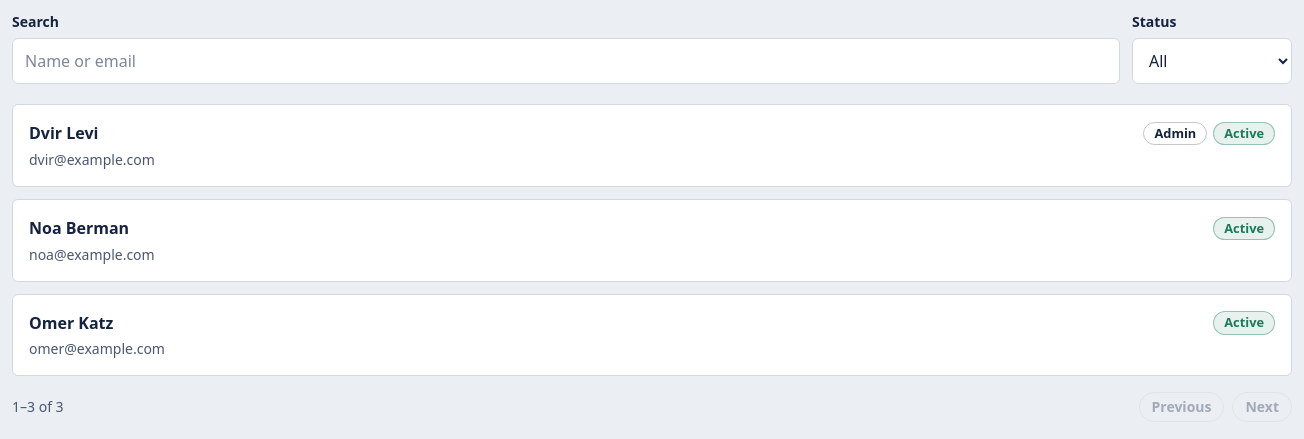
Test: Admin user management › filters by name or email as the admin searches
Check: the text "Noa Berman" is shown, box 29,216 -> 129,241
Type "omer" into the field labelled "Search" at (566, 61), box 12,38 -> 1120,84
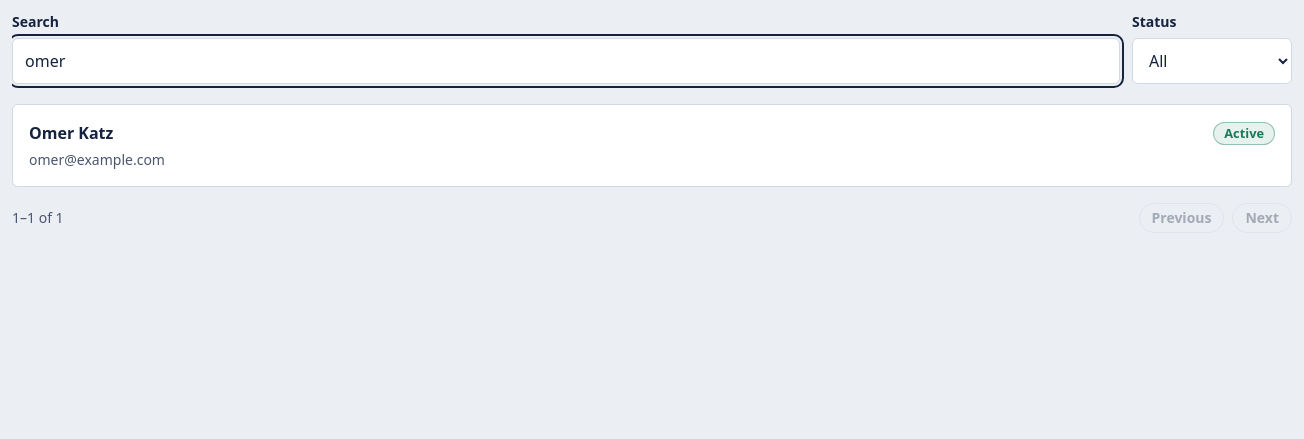
Check: the text "Omer Katz" is shown, box 29,121 -> 113,146
Check: the link "Noa Berman" is gone
